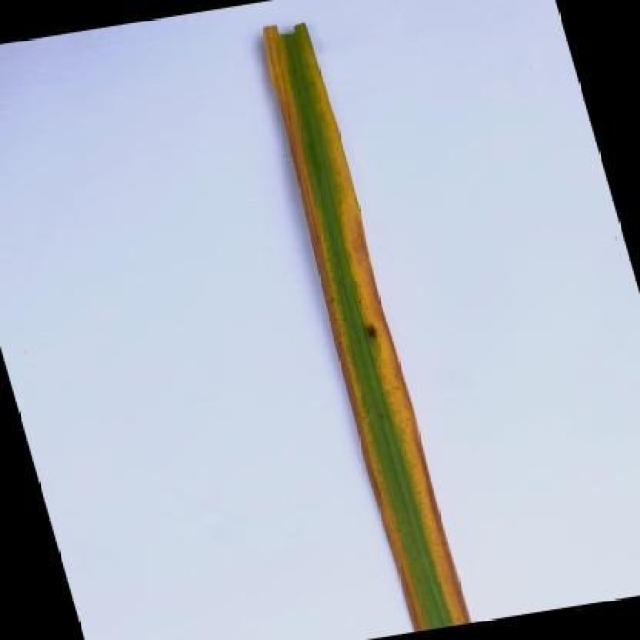Rice False Smut: (263, 24, 470, 630)
